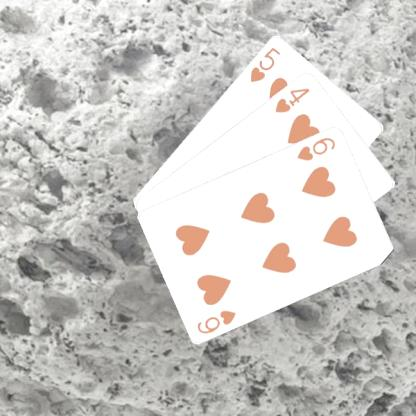4H: (272, 84, 312, 114)
5H: (247, 44, 283, 84)
6H: (194, 306, 237, 335), (294, 134, 337, 162)
